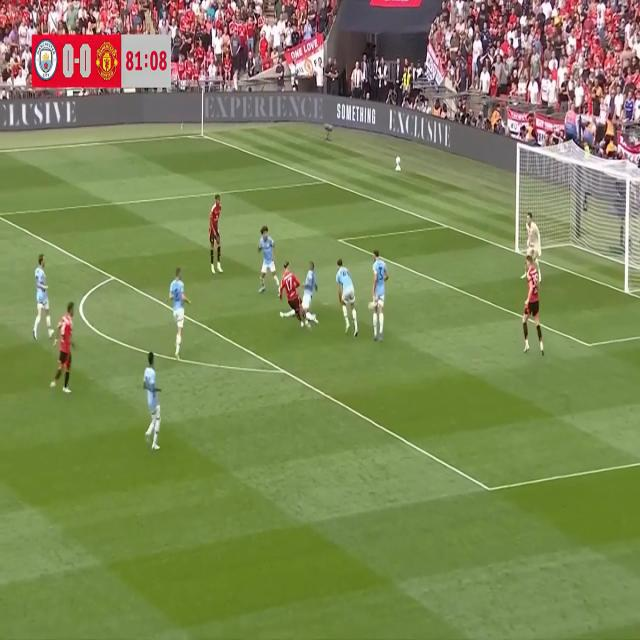ball: (368, 292, 376, 323)
goal_keeper: (526, 210, 542, 284)
players: (516, 250, 546, 356), (139, 352, 168, 453), (30, 252, 56, 346), (166, 256, 187, 372), (54, 302, 79, 398), (335, 253, 361, 337), (281, 261, 309, 336), (296, 256, 322, 336), (372, 248, 391, 348), (258, 222, 281, 302), (208, 191, 226, 284)
